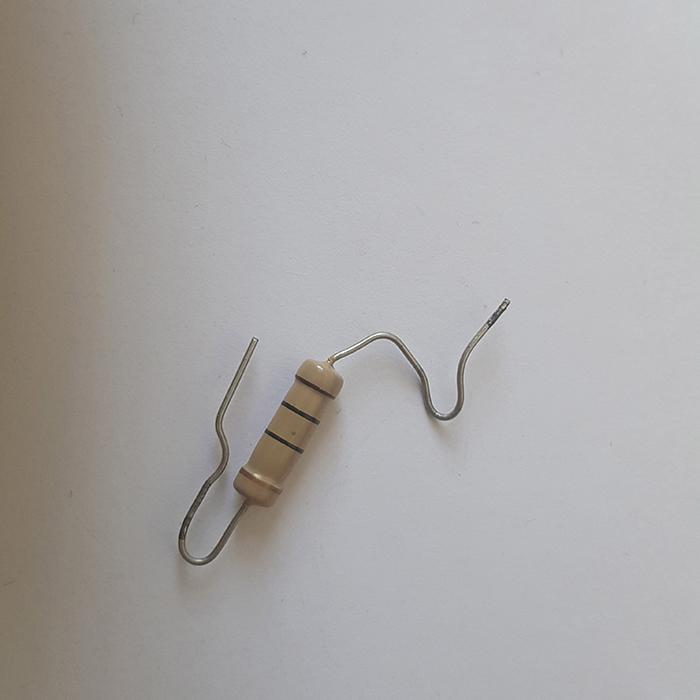resistor: (236, 358, 341, 507)
